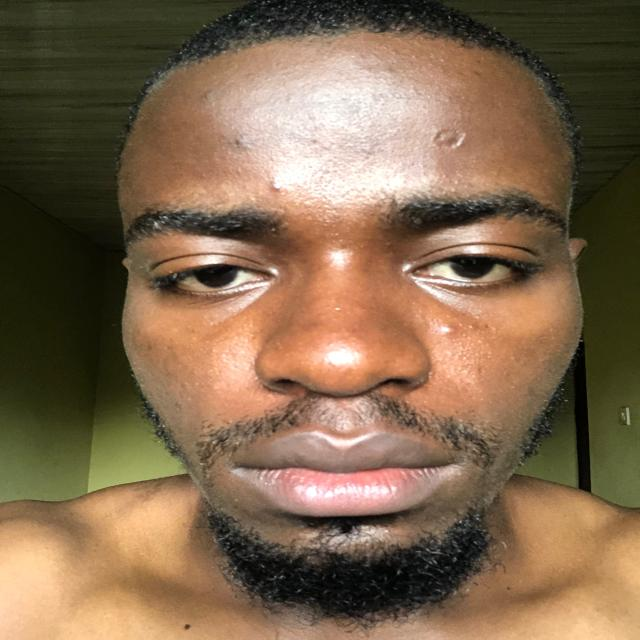Acne: (194, 89, 218, 107), (436, 322, 457, 337), (229, 134, 246, 151), (268, 178, 286, 194)
Blackheads: (156, 371, 193, 413)
Englarged-Pores: (208, 322, 260, 384), (434, 325, 487, 383)
